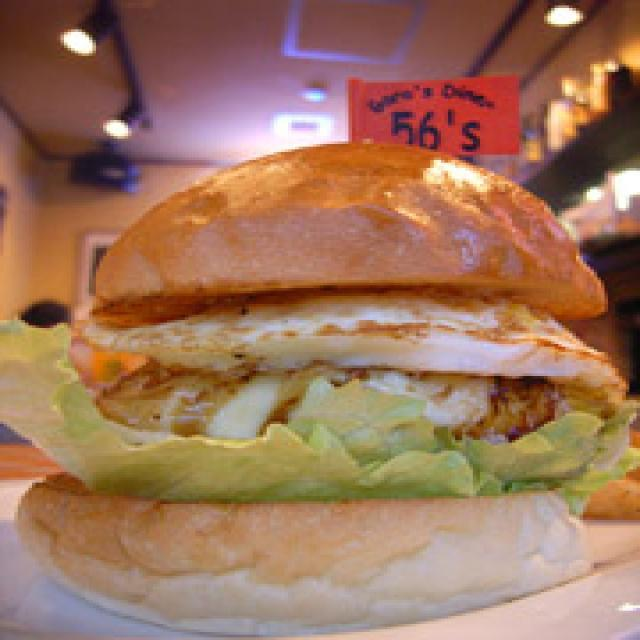Hamburger: (41, 144, 630, 626)
